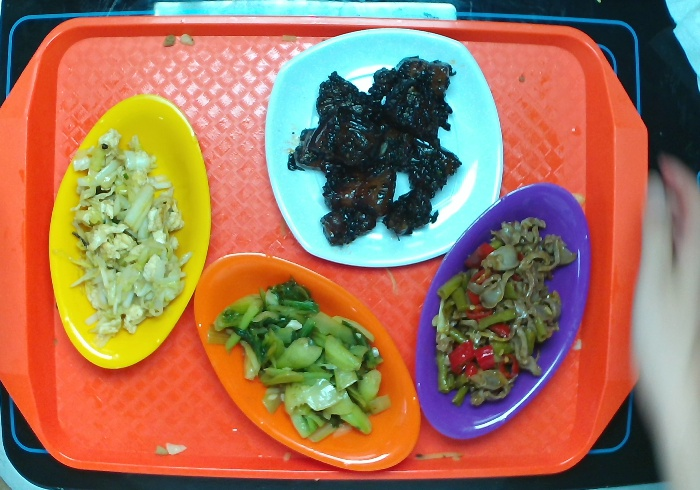RJxy-Fen_Hong_Tuo_Yuan: (414, 179, 592, 441)
RJxy-Huang_Se_Tuo_Yuan: (47, 92, 214, 370)
RJxy-Ju_Huang_Tuo_Yuan: (192, 250, 423, 472)
RJxy-Si_Fang_Die: (262, 25, 506, 270)
